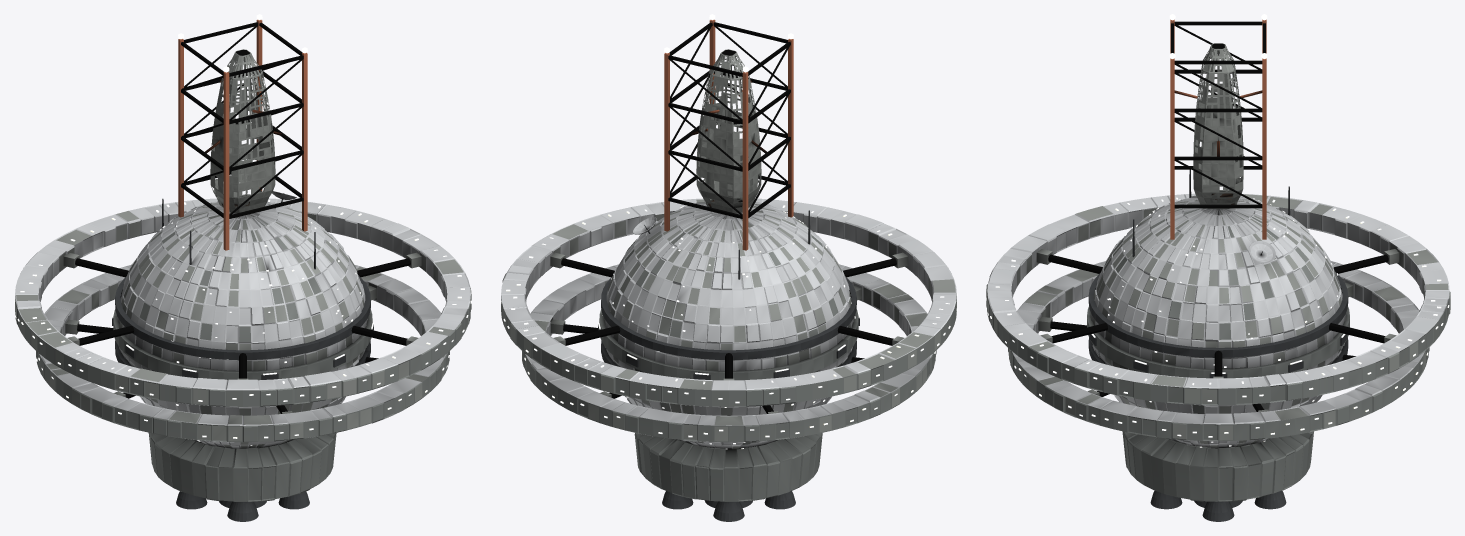
Rendered from tycho.glb.
3 views of the same model, side by side, from view 1: azimuth 30°, elevation 25°; view 2: azimuth 150°, elevation 25°; view 3: azimuth 270°, elevation 25° (orthographic).
Parts seen in each view (by area): view 1: body, ring_a, ring_b; view 2: body, ring_a, ring_b; view 3: body, ring_a, ring_b.
Boxes of the visible parts, <box> form: body: <box>112,14,373,521</box>; ring_a: <box>14,198,471,407</box>; ring_b: <box>36,264,450,442</box>; body: <box>598,14,859,521</box>; ring_a: <box>500,198,957,406</box>; ring_b: <box>521,264,936,442</box>; body: <box>1087,14,1349,521</box>; ring_a: <box>986,193,1450,405</box>; ring_b: <box>1008,261,1429,441</box>.
Bounding box in the file's own units: 1.31 × 1.45 × 1.31.
